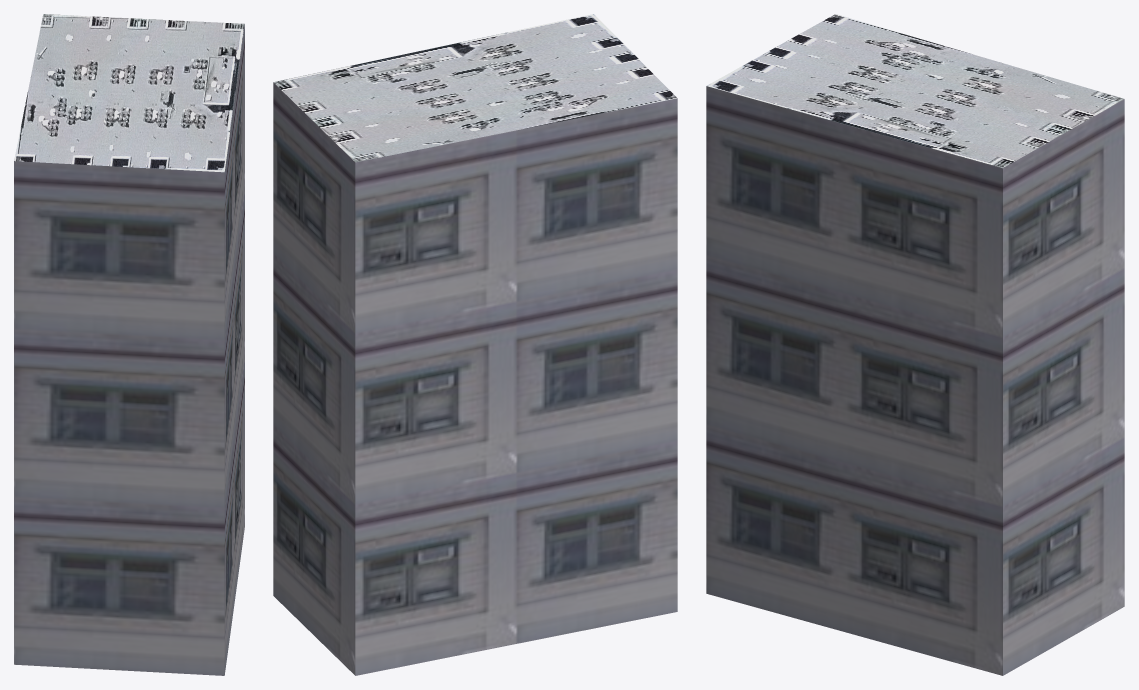
The model's file is ResTex__3798.fbx.
The picture shows the model from 3 angles, left to right: view 1: azimuth 30°, elevation 25°; view 2: azimuth 150°, elevation 25°; view 3: azimuth 270°, elevation 25°; orthographic projection.
Visible parts, largest first — view 1: CityEngineMaterial_1_m, CityEngineMaterial_4_m; view 2: CityEngineMaterial_1_m, CityEngineMaterial_4_m; view 3: CityEngineMaterial_1_m, CityEngineMaterial_4_m.
Boxes of the visible parts, x1,y1,x2,y2 form: CityEngineMaterial_1_m: (14,24,244,675); CityEngineMaterial_4_m: (14,14,244,172); CityEngineMaterial_1_m: (273,82,677,675); CityEngineMaterial_4_m: (273,14,677,162); CityEngineMaterial_1_m: (706,86,1124,675); CityEngineMaterial_4_m: (707,14,1123,168).
Size of the model in its own units: 5.87 by 9 by 6.72.
2 materials, 2 textured.
